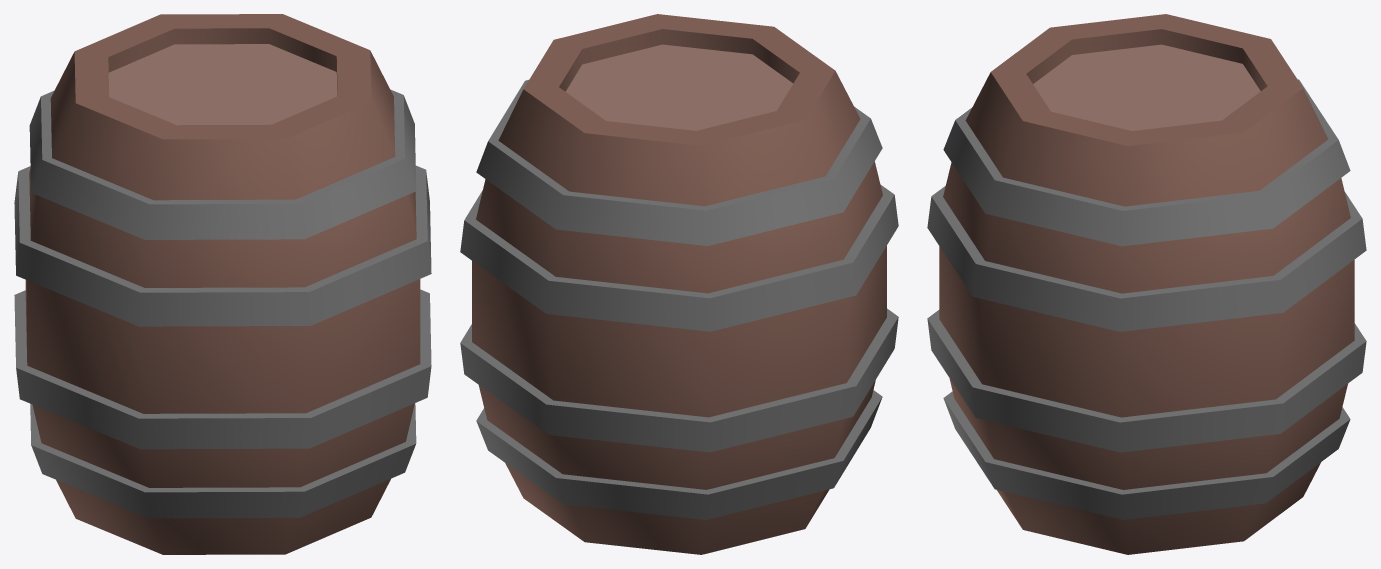
File: n4_barrel_001_lev4.glb
3 renders of one model, left to right at view 1: azimuth 30°, elevation 25°; view 2: azimuth 150°, elevation 25°; view 3: azimuth 270°, elevation 25°, orthographic.
Parts seen in each view (by area): view 1: n4_barrel_001_lev4; view 2: n4_barrel_001_lev4; view 3: n4_barrel_001_lev4.
Boxes of the visible parts, x1,y1,x2,y2 form: n4_barrel_001_lev4: (14, 14, 431, 554); n4_barrel_001_lev4: (460, 14, 898, 554); n4_barrel_001_lev4: (927, 14, 1366, 554).
Size of the model in its own units: 1.36 by 1.4 by 1.36.
Materials: 1 (1 with a texture image).
